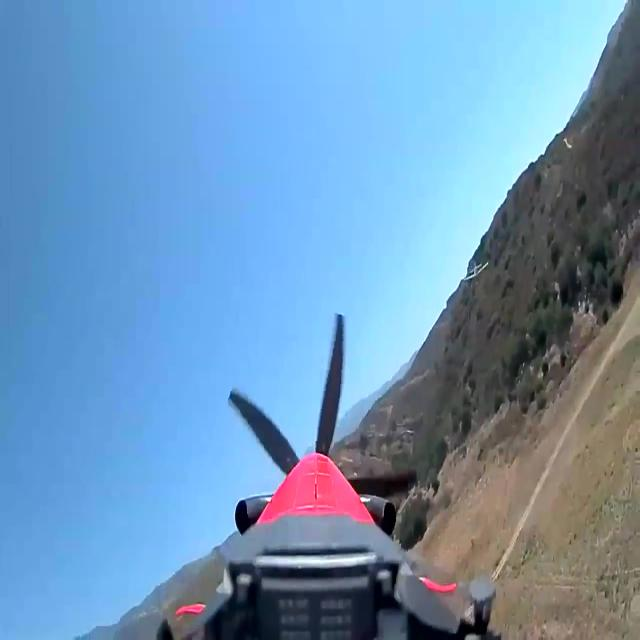iha: (464, 261, 489, 282)
